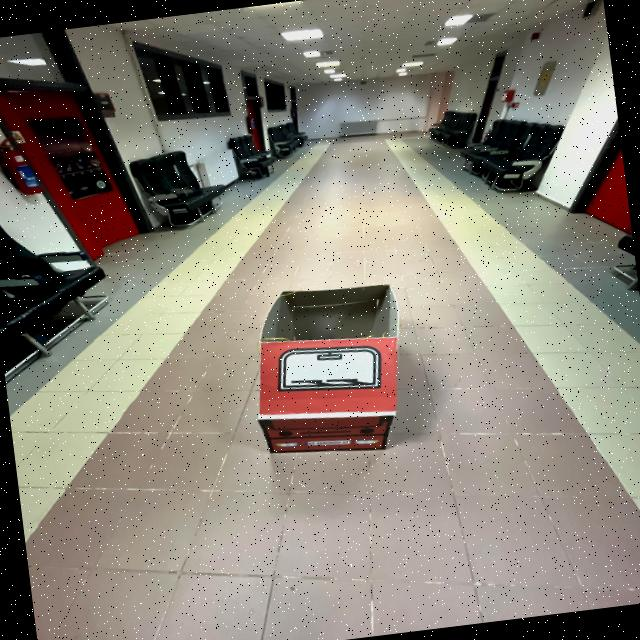red_car: (222, 263, 444, 483)
